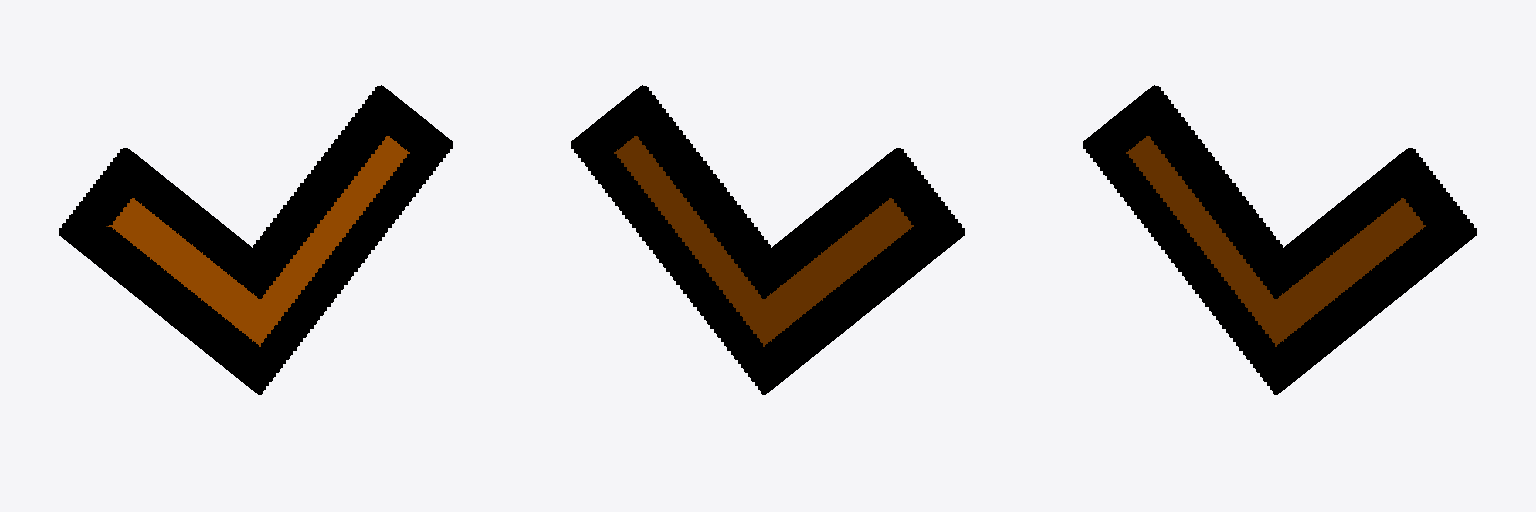
3 views of the same model, side by side, from view 1: azimuth 30°, elevation 25°; view 2: azimuth 150°, elevation 25°; view 3: azimuth 330°, elevation 25° (orthographic).
Size of the model in its own units: 113 by 76 by 5.
Materials: 1 (1 with a texture image).